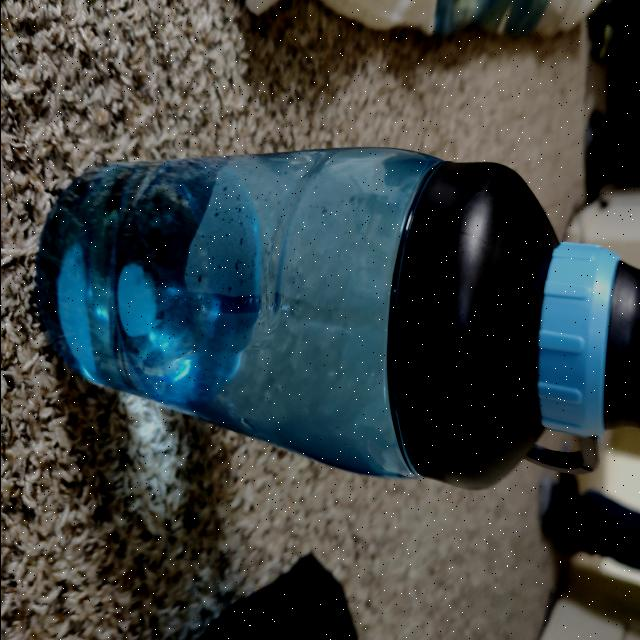bottle: (36, 112, 640, 492)
